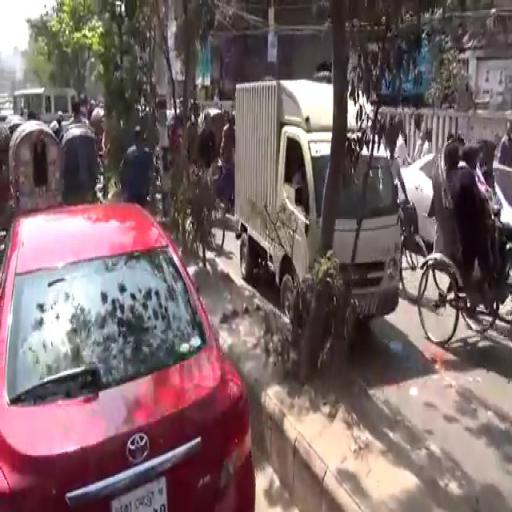bus: (9, 85, 78, 118)
car: (1, 200, 260, 512), (397, 149, 437, 248)
pickup: (233, 77, 406, 323)
rickshaw: (416, 135, 512, 348), (9, 116, 67, 212), (199, 103, 236, 233), (61, 122, 100, 206)
